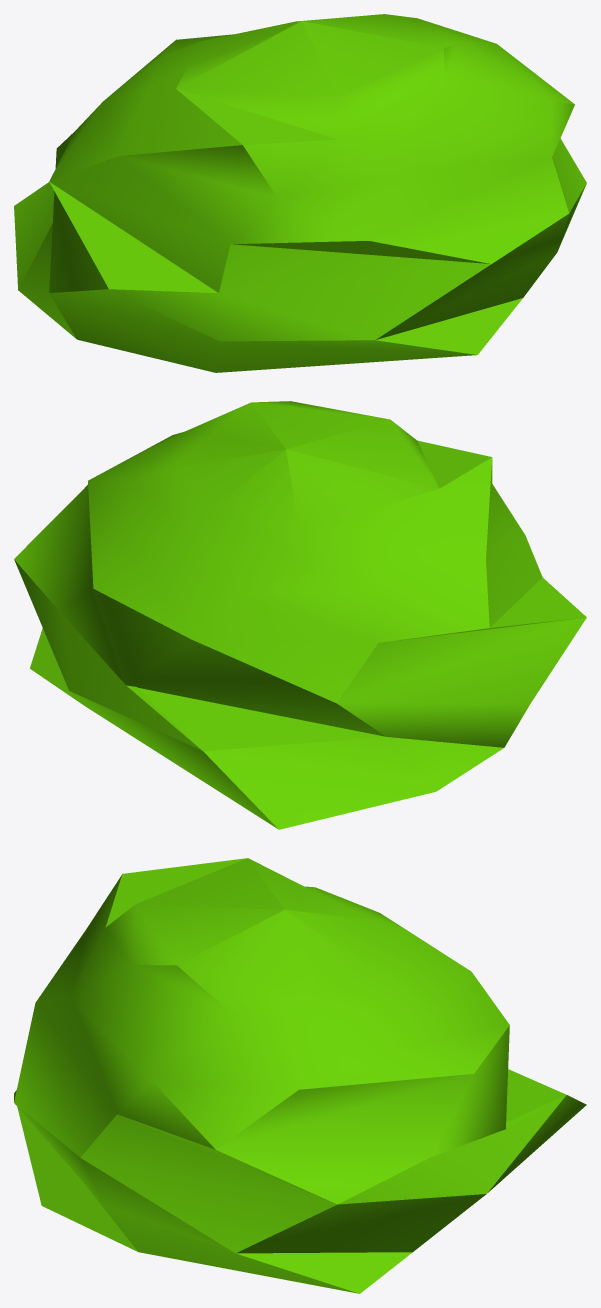
File: bush.glb
3 views of the same model, one above another, from view 1: azimuth 30°, elevation 25°; view 2: azimuth 150°, elevation 25°; view 3: azimuth 270°, elevation 25° (orthographic). The views are drawn at different scales.
Visible parts, largest first — view 1: default4_Material_0; view 2: default4_Material_0; view 3: default4_Material_0.
Part boxes in pixels (box(x1,y1,x2,y2)): default4_Material_0: box(14, 14, 586, 372); default4_Material_0: box(14, 401, 586, 829); default4_Material_0: box(14, 858, 586, 1293).
Size of the model in its own units: 2.11 by 1.02 by 1.98.
Materials: 1 (1 with a texture image).
